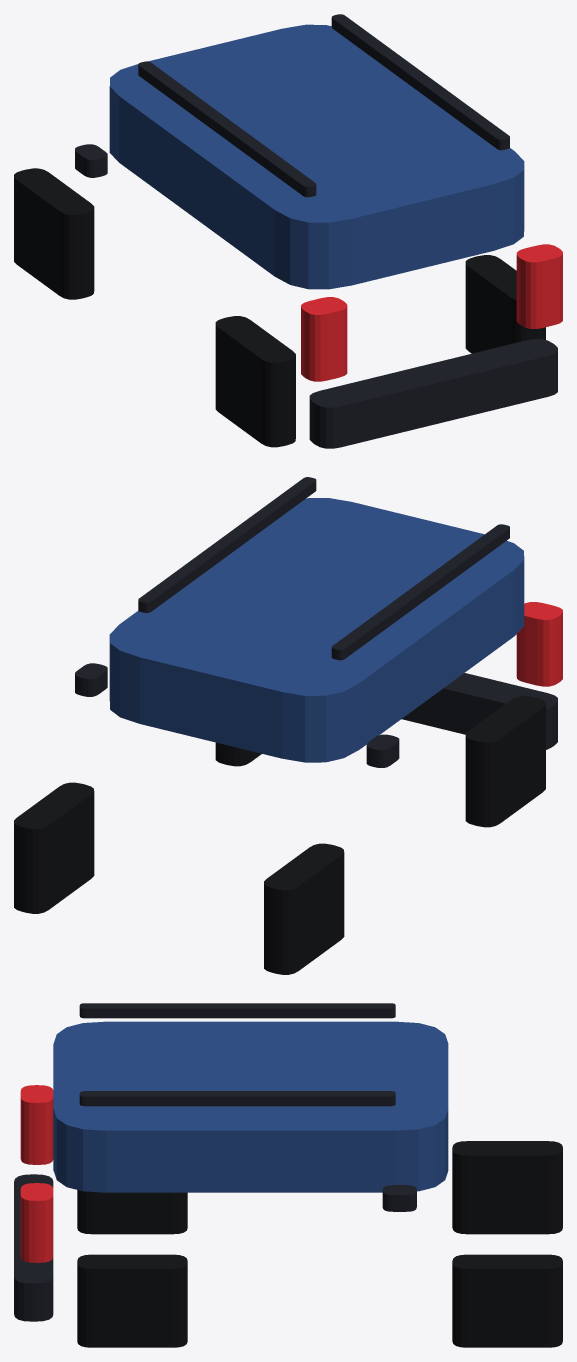
Rendered from car_parts_suv.glb.
3 renders of one model, top to bottom at view 1: azimuth 30°, elevation 25°; view 2: azimuth 150°, elevation 25°; view 3: azimuth 270°, elevation 25°, orthographic. The views are drawn at different scales.
Bounding box in the file's own units: 2.56 × 1.96 × 4.17.
